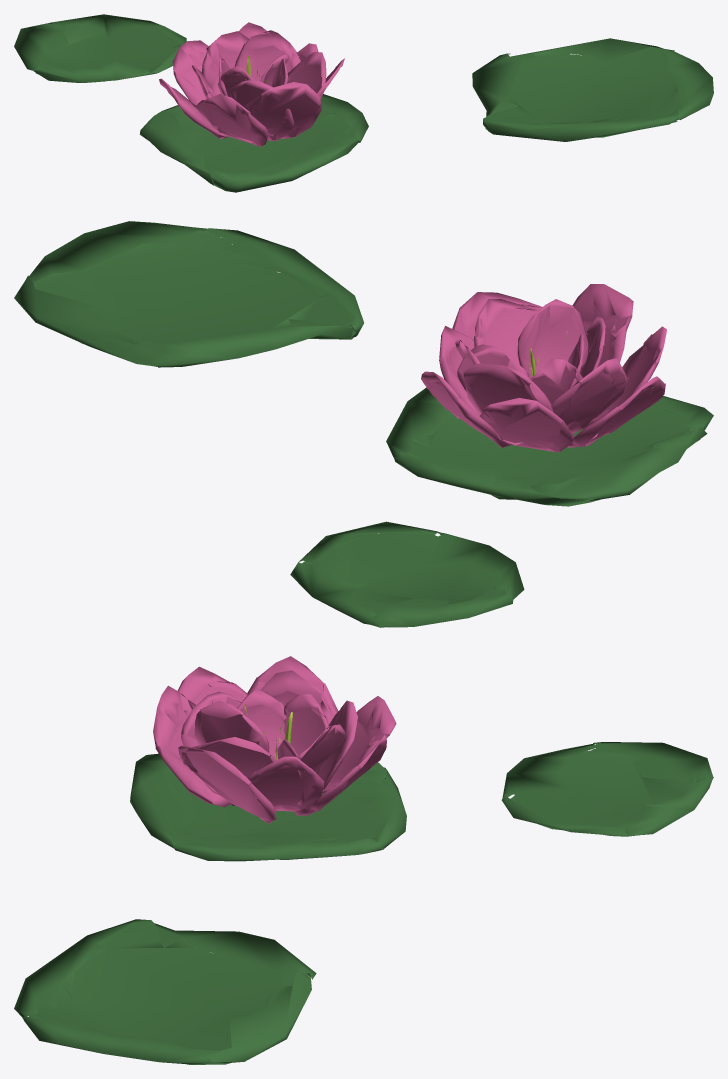
Rendered from lilypad_flower.glb.
3 renders of one model, top to bottom at view 1: azimuth 30°, elevation 25°; view 2: azimuth 150°, elevation 25°; view 3: azimuth 270°, elevation 25°, orthographic. The views are drawn at different scales.
Visible parts, largest first — view 1: Box025_Material #25_0, Box010_Material #24_0, Box024_Material #26_0, Box011_Material #2_0, Box012_Material #4_0, Box002_Material #14_0, Box014_Material #7_0, Box003_Material #8_0, Box005_Material #3_0, Box001_Material #13_0, Box013_Material #5_0, Box009_Material #10_0 (+2 smaller); view 2: Box025_Material #25_0, Box010_Material #24_0, Box024_Material #26_0, Box006_Material #11_0, Box014_Material #7_0, Box004_Material #6_0, Box011_Material #2_0, Box003_Material #8_0, Box001_Material #13_0, Box013_Material #5_0, Box012_Material #4_0, Box015_Material #15_0 (+5 smaller); view 3: Box025_Material #25_0, Box010_Material #24_0, Box024_Material #26_0, Box011_Material #2_0, Box017_Material #17_0, Box016_Material #16_0, Box014_Material #7_0, Box006_Material #11_0, Box008_Material #9_0, Box001_Material #13_0, Box009_Material #10_0, Box004_Material #6_0 (+6 smaller).
Part boxes in pixels (<box>): Box025_Material #25_0: <box>472,38,713,141</box>; Box010_Material #24_0: <box>139,94,368,192</box>; Box024_Material #26_0: <box>14,14,186,82</box>; Box011_Material #2_0: <box>244,82,321,138</box>; Box012_Material #4_0: <box>196,94,268,146</box>; Box002_Material #14_0: <box>234,30,300,81</box>; Box014_Material #7_0: <box>172,40,208,108</box>; Box003_Material #8_0: <box>202,31,248,95</box>; Box005_Material #3_0: <box>230,80,294,141</box>; Box001_Material #13_0: <box>287,52,326,99</box>; Box013_Material #5_0: <box>159,78,228,138</box>; Box009_Material #10_0: <box>218,66,253,96</box>; Box025_Material #25_0: <box>14,221,363,367</box>; Box010_Material #24_0: <box>386,387,713,506</box>; Box024_Material #26_0: <box>290,521,524,627</box>; Box006_Material #11_0: <box>517,299,588,378</box>; Box014_Material #7_0: <box>480,398,574,452</box>; Box004_Material #6_0: <box>551,358,627,433</box>; Box011_Material #2_0: <box>572,284,633,373</box>; Box003_Material #8_0: <box>463,363,553,414</box>; Box001_Material #13_0: <box>474,299,537,364</box>; Box013_Material #5_0: <box>567,376,665,447</box>; Box012_Material #4_0: <box>583,326,666,429</box>; Box015_Material #15_0: <box>421,371,511,447</box>; Box025_Material #25_0: <box>14,919,316,1064</box>; Box010_Material #24_0: <box>130,753,406,861</box>; Box024_Material #26_0: <box>501,742,713,836</box>; Box011_Material #2_0: <box>153,685,231,807</box>; Box017_Material #17_0: <box>178,745,276,823</box>; Box016_Material #16_0: <box>247,756,324,811</box>; Box014_Material #7_0: <box>322,696,396,793</box>; Box006_Material #11_0: <box>194,700,269,752</box>; Box008_Material #9_0: <box>282,694,328,755</box>; Box001_Material #13_0: <box>181,737,276,777</box>; Box009_Material #10_0: <box>236,688,286,759</box>; Box004_Material #6_0: <box>261,670,331,724</box>.
Size of the model in its own units: 58.09 by 10.42 by 52.49.
Materials: 25 (25 with a texture image).
